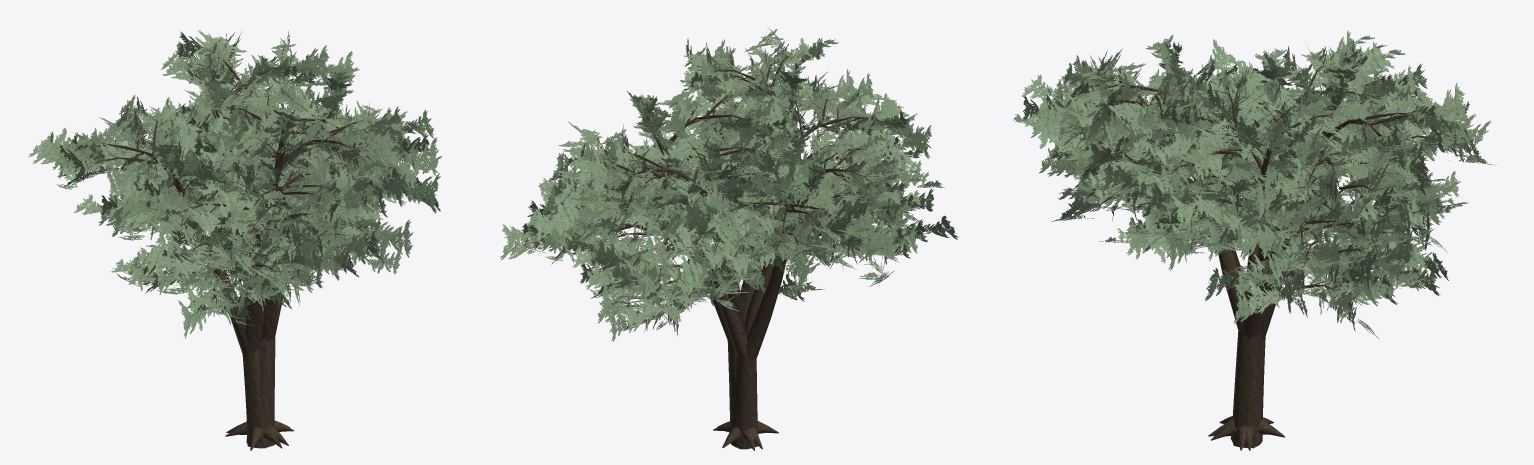
The model's file is duero_soto66.glb.
3 renders of one model, left to right at view 1: azimuth 30°, elevation 25°; view 2: azimuth 150°, elevation 25°; view 3: azimuth 270°, elevation 25°, orthographic. The views are drawn at different scales.
Visible parts, largest first — view 1: salix_0_medium_foliage, salix_0_near_foliage, salix_1_medium_foliage, salix_1_near_foliage, salix_0_near_bark, salix_1_near_bark, salix_0_medium_bark, salix_1_medium_bark; view 2: salix_0_medium_foliage, salix_0_near_foliage, salix_1_medium_foliage, salix_1_near_foliage, salix_1_near_bark, salix_0_near_bark, salix_0_medium_bark, salix_1_medium_bark; view 3: salix_0_near_foliage, salix_0_medium_foliage, salix_1_medium_foliage, salix_1_near_foliage, salix_0_near_bark, salix_1_near_bark, salix_0_medium_bark.
Boxes of the visible parts, left/top/right/bottom form: salix_0_medium_foliage: left=74, top=30, right=441, bottom=287; salix_0_near_foliage: left=83, top=31, right=432, bottom=285; salix_1_medium_foliage: left=28, top=97, right=413, bottom=338; salix_1_near_foliage: left=41, top=95, right=403, bottom=330; salix_0_near_bark: left=148, top=48, right=410, bottom=450; salix_1_near_bark: left=70, top=113, right=369, bottom=450; salix_0_medium_bark: left=148, top=58, right=370, bottom=450; salix_1_medium_bark: left=90, top=121, right=362, bottom=450; salix_0_medium_foliage: left=500, top=26, right=945, bottom=286; salix_0_near_foliage: left=510, top=29, right=934, bottom=285; salix_1_medium_foliage: left=572, top=84, right=958, bottom=341; salix_1_near_foliage: left=580, top=97, right=947, bottom=336; salix_1_near_bark: left=614, top=131, right=900, bottom=450; salix_0_near_bark: left=533, top=54, right=908, bottom=448; salix_0_medium_bark: left=578, top=57, right=887, bottom=449; salix_1_medium_bark: left=628, top=134, right=888, bottom=450; salix_0_near_foliage: left=1023, top=40, right=1481, bottom=333; salix_0_medium_foliage: left=1013, top=35, right=1495, bottom=338; salix_1_medium_foliage: left=1039, top=30, right=1468, bottom=319; salix_1_near_foliage: left=1050, top=40, right=1458, bottom=308; salix_0_near_bark: left=1058, top=69, right=1454, bottom=450; salix_1_near_bark: left=1082, top=58, right=1438, bottom=450; salix_0_medium_bark: left=1094, top=79, right=1430, bottom=450.
Bounding box in the file's own units: 12.76 × 11.65 × 13.51.
2 materials, 2 textured.
